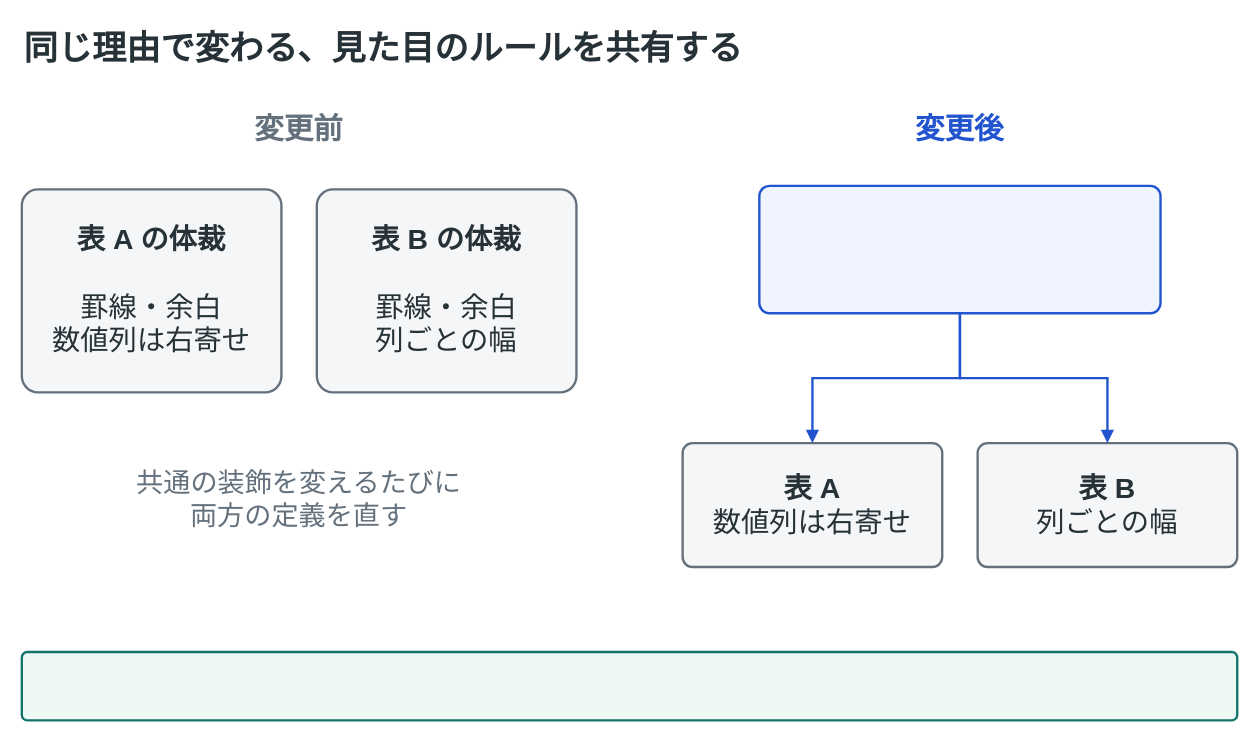
Some shapes in this 1258 by 741 pixel diagram are drawn without their labels. The centre of each missing label's shape, as x and y in pixels:
"共通の体裁 罫線・余白" goes at [959,249].
"罫線や余白は一か所で変更し、列ごとの違いは各表に残す" goes at [629,685].
